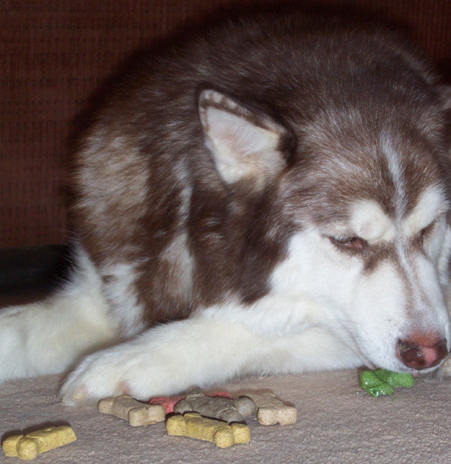dog: (0, 0, 449, 409)
